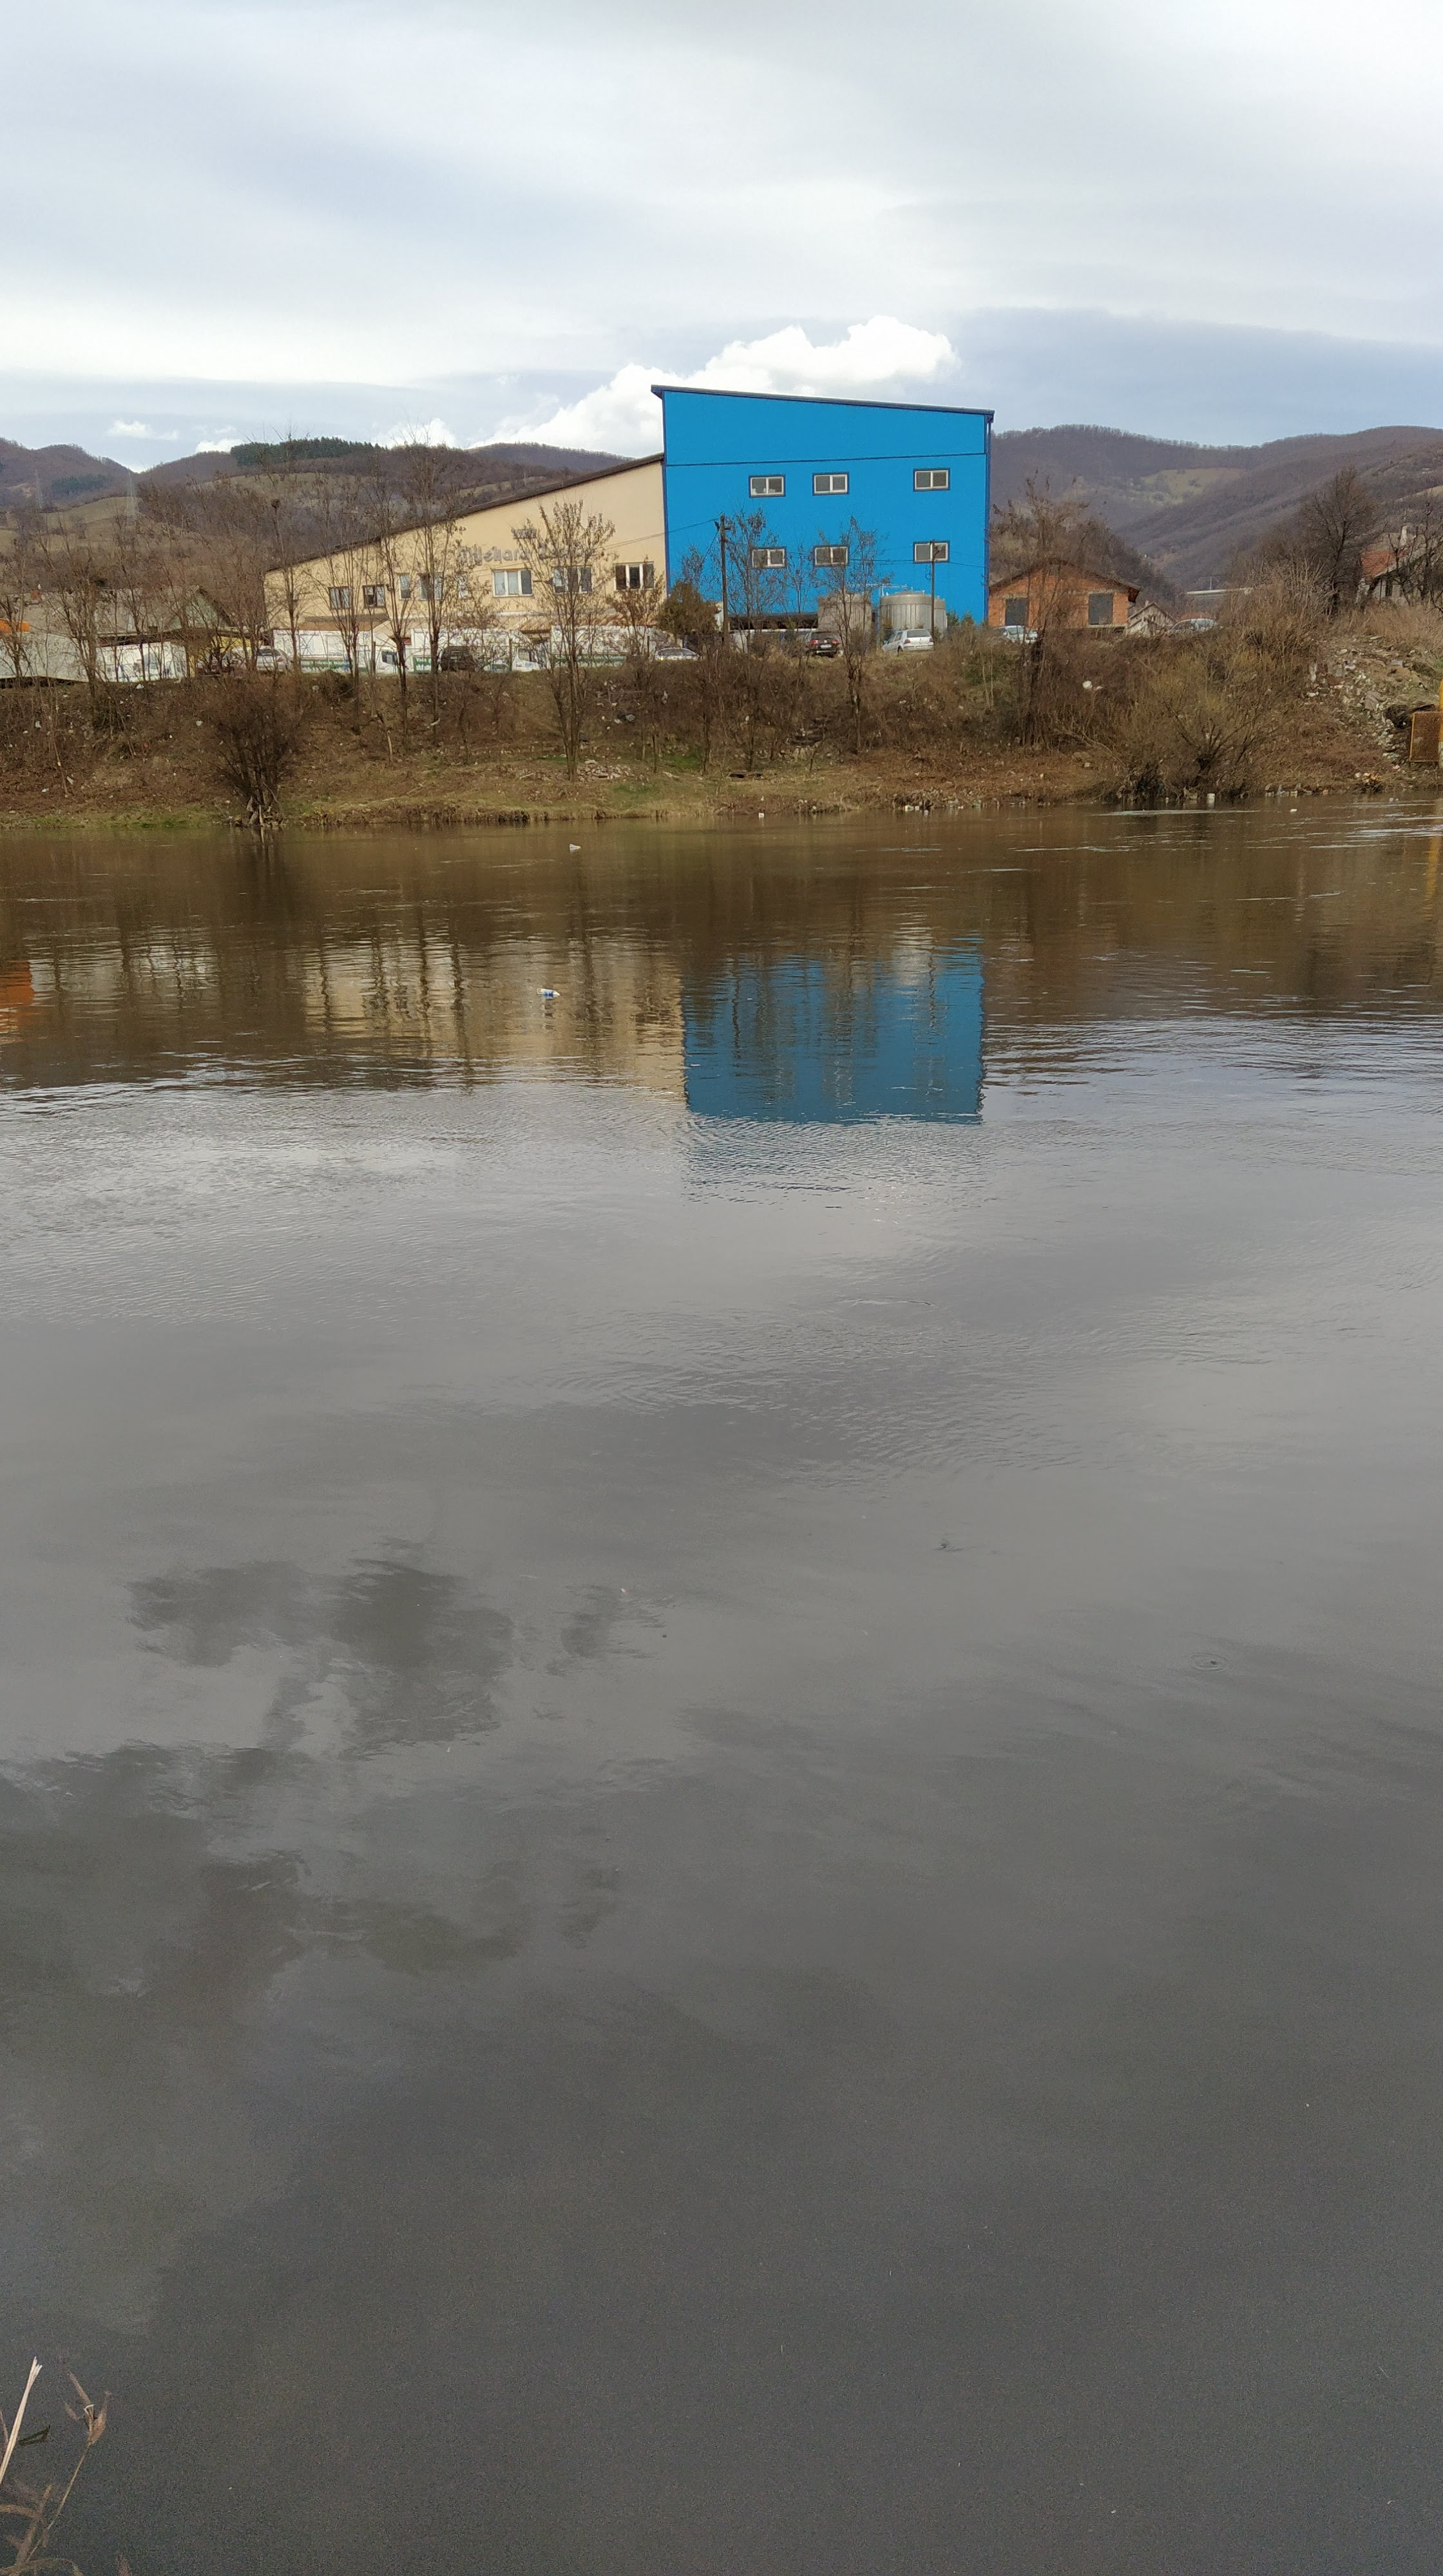Plastic Bottle: (536, 987, 559, 996), (570, 842, 579, 849), (972, 803, 979, 807), (758, 812, 763, 816)
